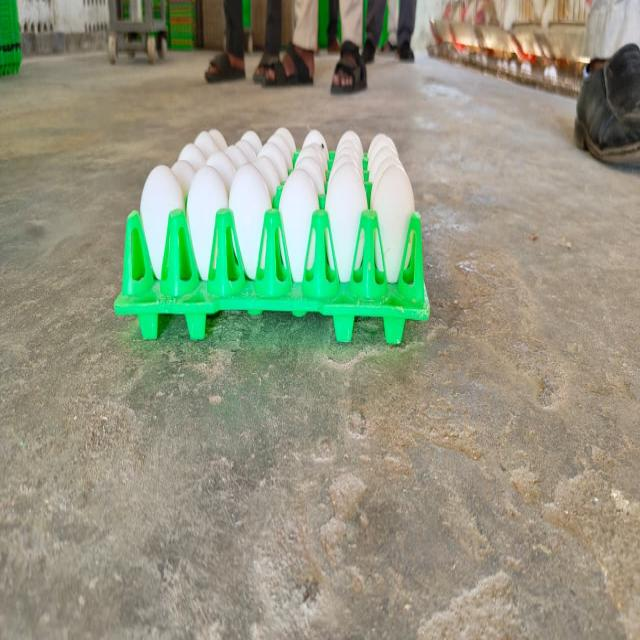egg_tray: (140, 128, 416, 286), (140, 128, 414, 282), (379, 291, 406, 311), (410, 295, 428, 318), (414, 222, 420, 250), (116, 296, 126, 312), (418, 268, 423, 292), (378, 256, 381, 267), (358, 312, 384, 313), (358, 300, 366, 303), (413, 246, 417, 252), (262, 252, 264, 259), (350, 296, 352, 301), (176, 309, 180, 311), (378, 299, 380, 301), (359, 289, 362, 290), (395, 296, 397, 297), (370, 309, 370, 310)
